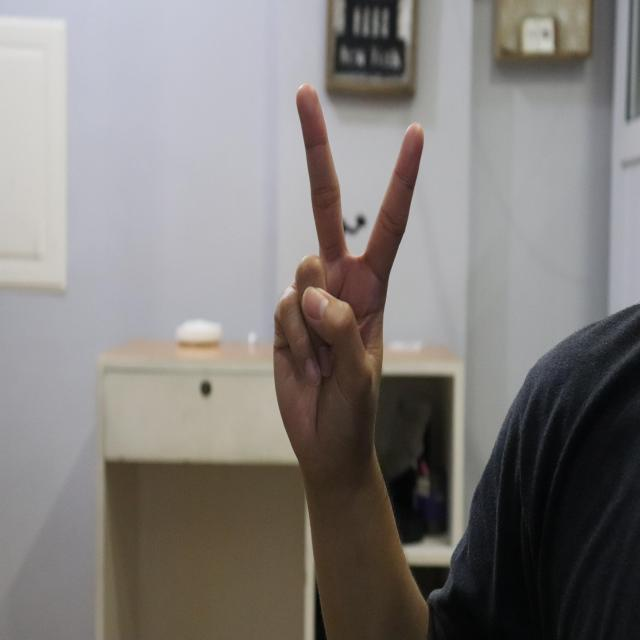V: (273, 81, 425, 480)
